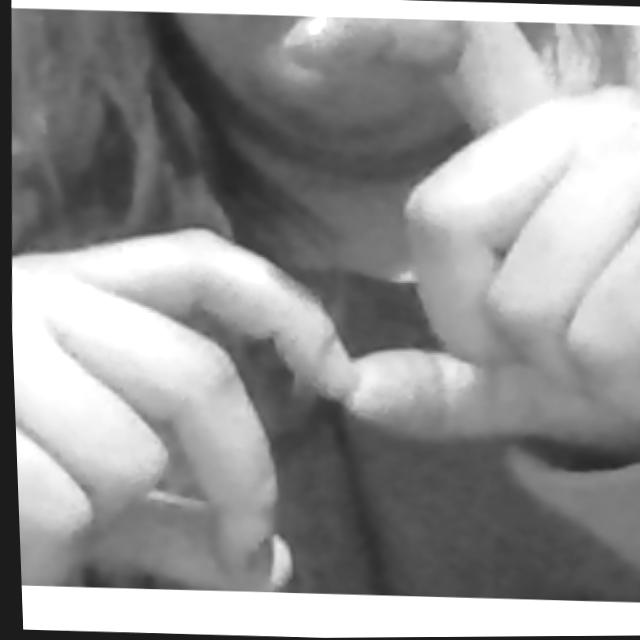S_: (0, 4, 640, 605)
